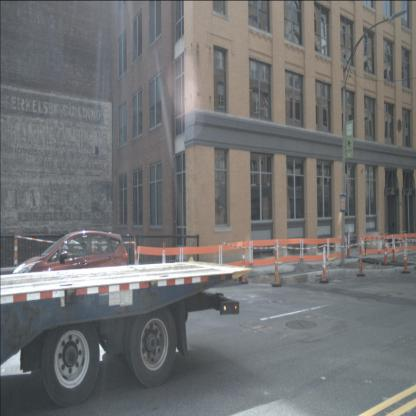movable_object-trafficcone: (10, 226, 22, 288), (271, 238, 281, 287), (131, 235, 140, 288), (239, 239, 249, 285), (159, 241, 169, 286), (319, 242, 329, 284), (401, 233, 410, 274), (356, 236, 365, 276), (390, 231, 398, 262), (345, 227, 352, 261), (382, 236, 389, 266)
vehicle-car: (11, 228, 130, 306)
